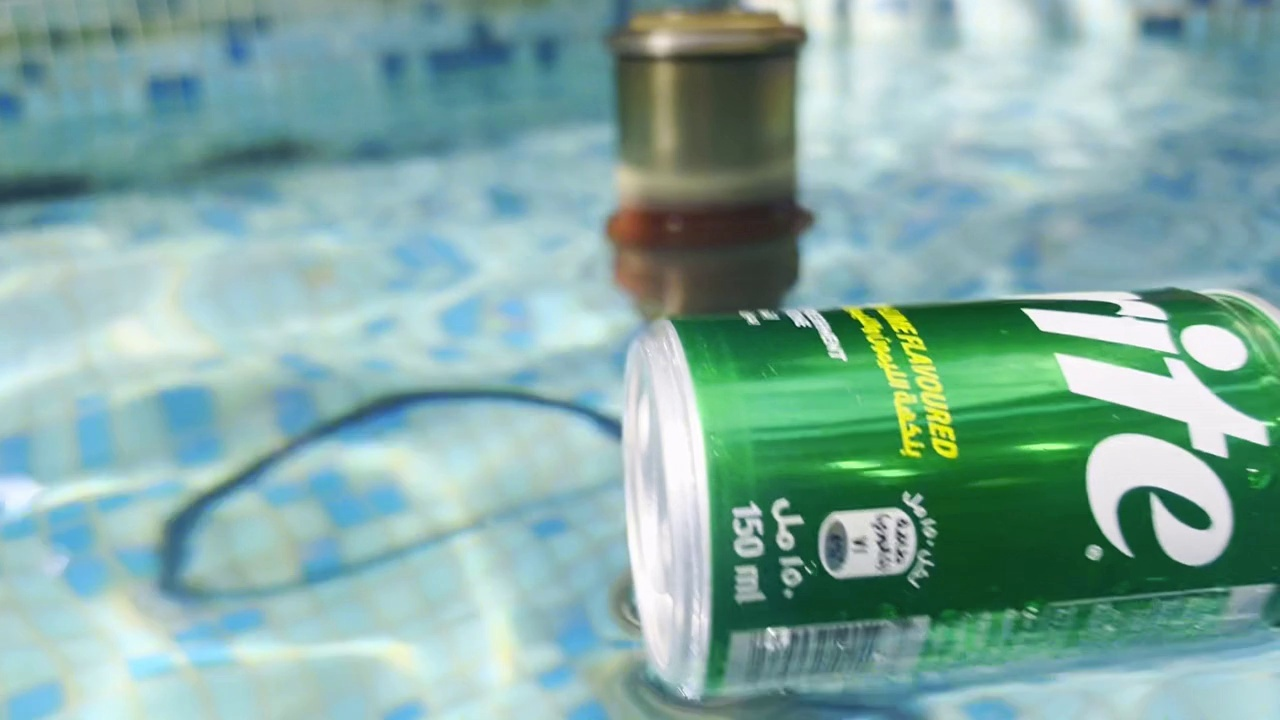debris: (602, 277, 1280, 711)
